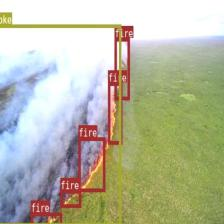fire: (78, 136, 105, 191), (114, 38, 129, 98), (108, 82, 121, 143), (60, 190, 81, 208), (30, 212, 61, 224)
smoke: (0, 23, 121, 224)
